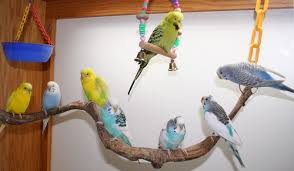budgie: (128, 11, 182, 83), (200, 94, 250, 168), (216, 63, 293, 95), (98, 95, 133, 151), (1, 83, 34, 136), (158, 111, 190, 161), (40, 80, 62, 130), (78, 66, 111, 99)
